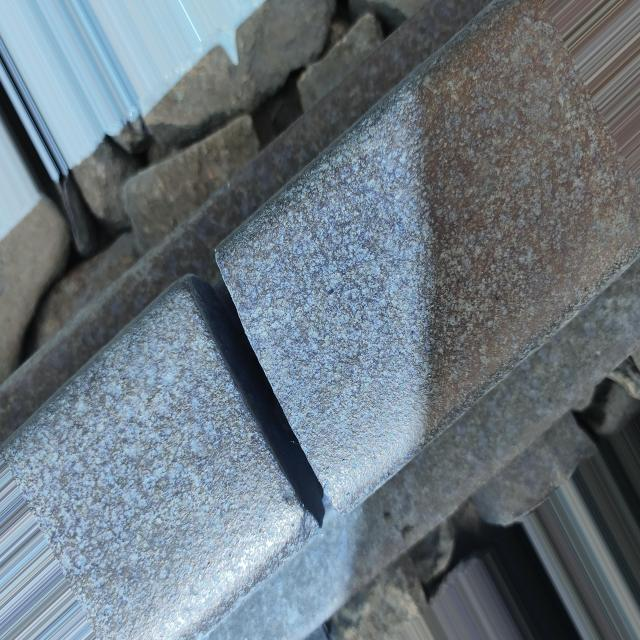crack: (140, 224, 363, 536)
